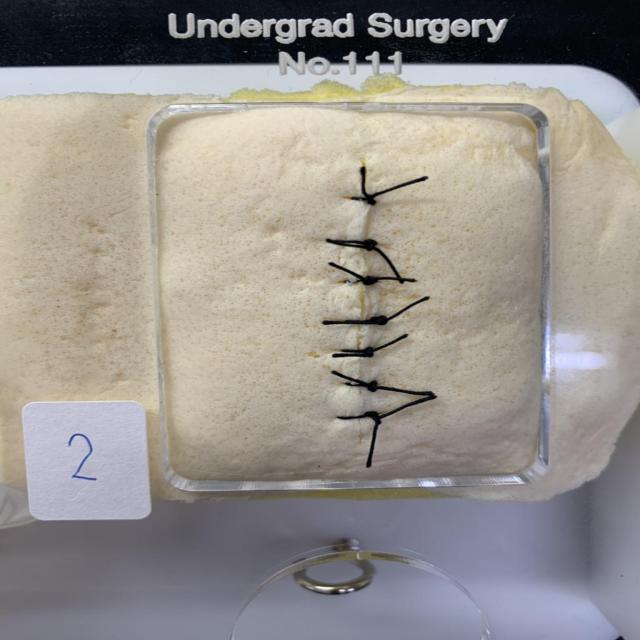knot: (364, 412, 381, 424), (371, 316, 388, 326), (363, 240, 377, 251), (363, 276, 377, 285), (364, 347, 374, 358), (367, 382, 377, 393), (366, 196, 376, 205)
leftover: (367, 174, 430, 203), (370, 393, 440, 416), (367, 244, 404, 285), (381, 295, 432, 324), (368, 331, 411, 354), (325, 260, 368, 283), (328, 370, 374, 389), (364, 412, 379, 469), (373, 386, 437, 396), (322, 238, 373, 248), (360, 164, 372, 203), (328, 349, 371, 358), (363, 276, 418, 283), (319, 319, 369, 325)
stitch: (333, 411, 381, 421), (330, 239, 378, 248), (341, 381, 380, 390), (341, 318, 390, 324), (348, 196, 379, 204), (338, 348, 374, 354), (340, 279, 380, 284)
wound: (352, 158, 372, 445)
